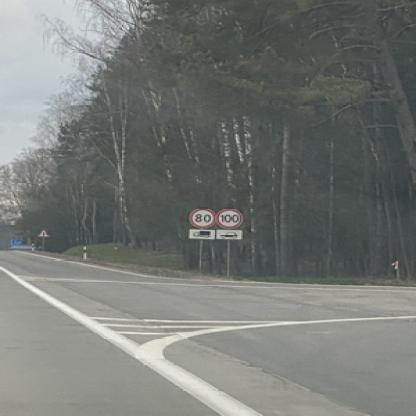Speed Limit 100: (216, 207, 242, 229)
Speed Limit 80: (191, 207, 215, 229)
